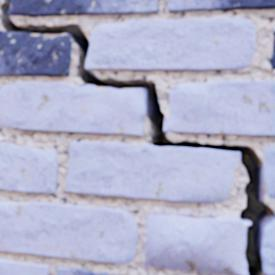brick: (66, 142, 239, 203), (86, 18, 255, 71), (0, 201, 137, 263), (0, 83, 145, 135), (163, 81, 274, 136), (0, 31, 71, 76), (0, 142, 58, 193), (9, 0, 157, 17), (168, 0, 274, 12), (0, 258, 49, 274), (263, 147, 274, 198), (57, 267, 115, 274), (269, 32, 274, 69)
broken_brick: (145, 214, 249, 274), (261, 218, 274, 274)
crack: (0, 0, 274, 274)
